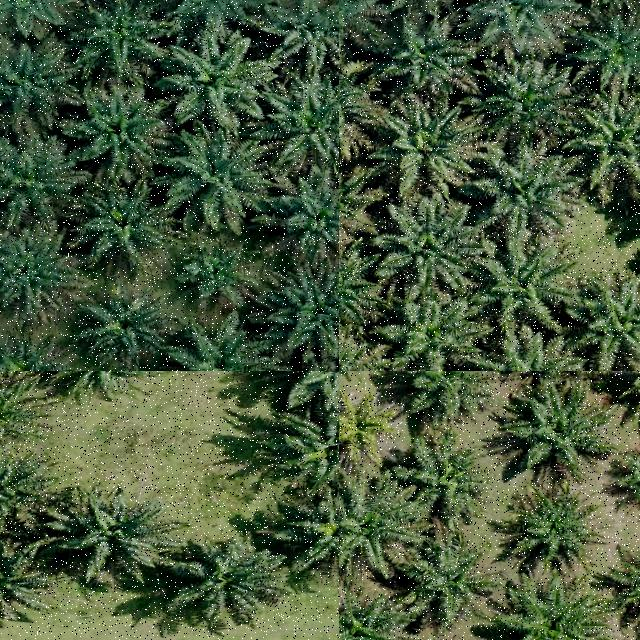Ganoderma: (339, 399, 390, 458)
